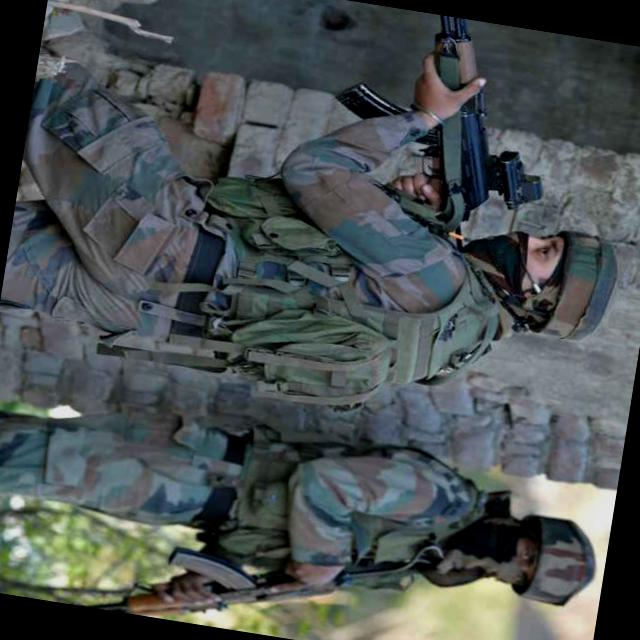long weapon: (277, 0, 584, 244)
